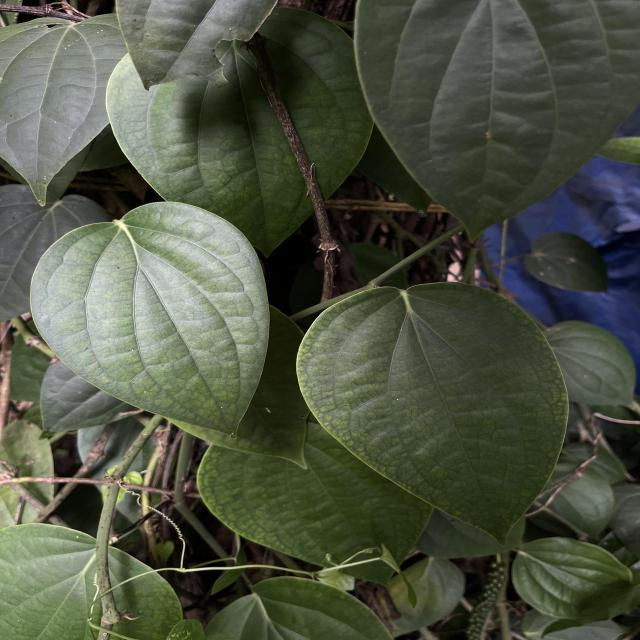Piper nigrum: (294, 280, 571, 548), (30, 200, 272, 442)
